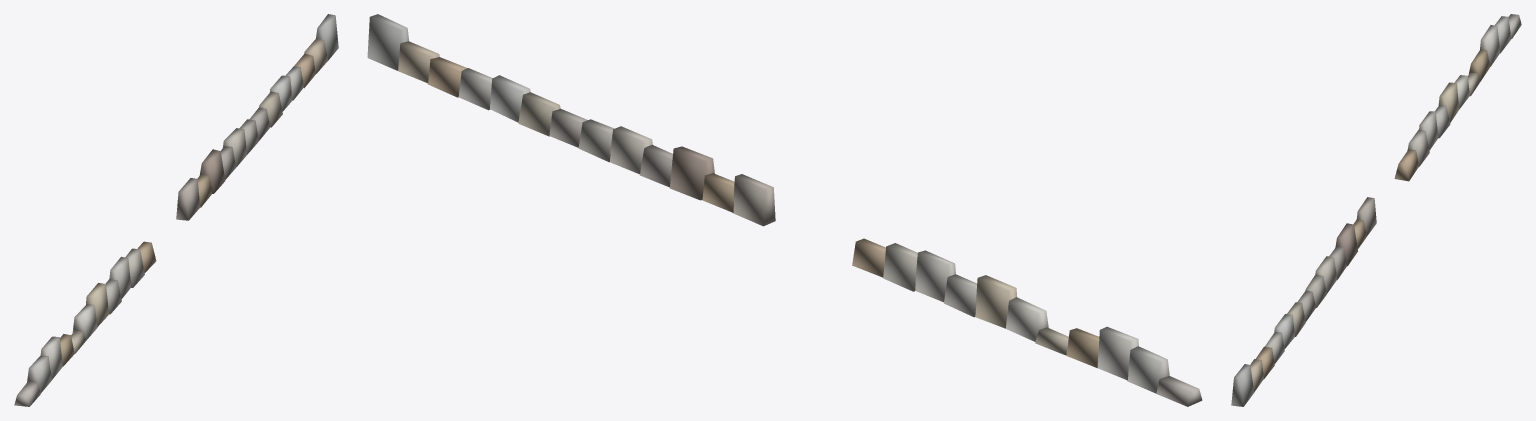
The model's file is farm_10_20_far.glb.
3 renders of one model, left to right at view 1: azimuth 90°, elevation 25°; view 2: azimuth 150°, elevation 25°; view 3: azimuth 270°, elevation 25°, orthographic. The views are drawn at different scales.
Parts seen in each view (by area): view 1: geometry_0; view 2: geometry_0; view 3: geometry_0.
Part boxes in pixels (bbox=[...]): geometry_0: bbox=[14, 14, 338, 406]; geometry_0: bbox=[367, 14, 1202, 406]; geometry_0: bbox=[1231, 14, 1521, 406].
Bounding box in the file's own units: 40.35 × 2.94 × 14.
